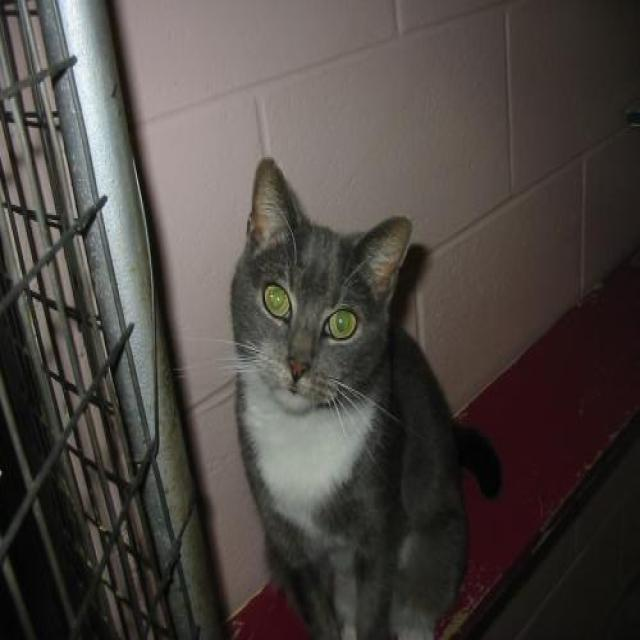cats: (232, 156, 502, 640)
